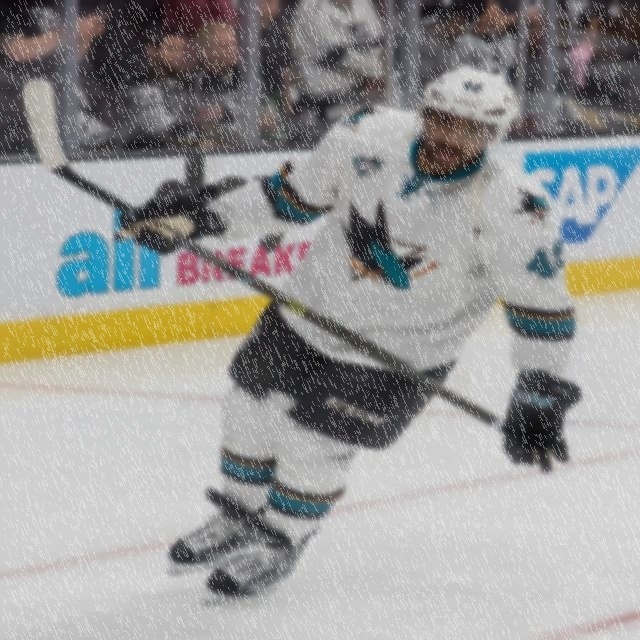pessoa: (96, 60, 588, 607), (275, 0, 460, 147), (0, 0, 99, 163), (109, 24, 218, 152), (188, 21, 290, 150), (508, 4, 578, 102), (99, 0, 276, 29), (498, 0, 561, 36), (522, 36, 562, 90), (258, 28, 276, 102)
